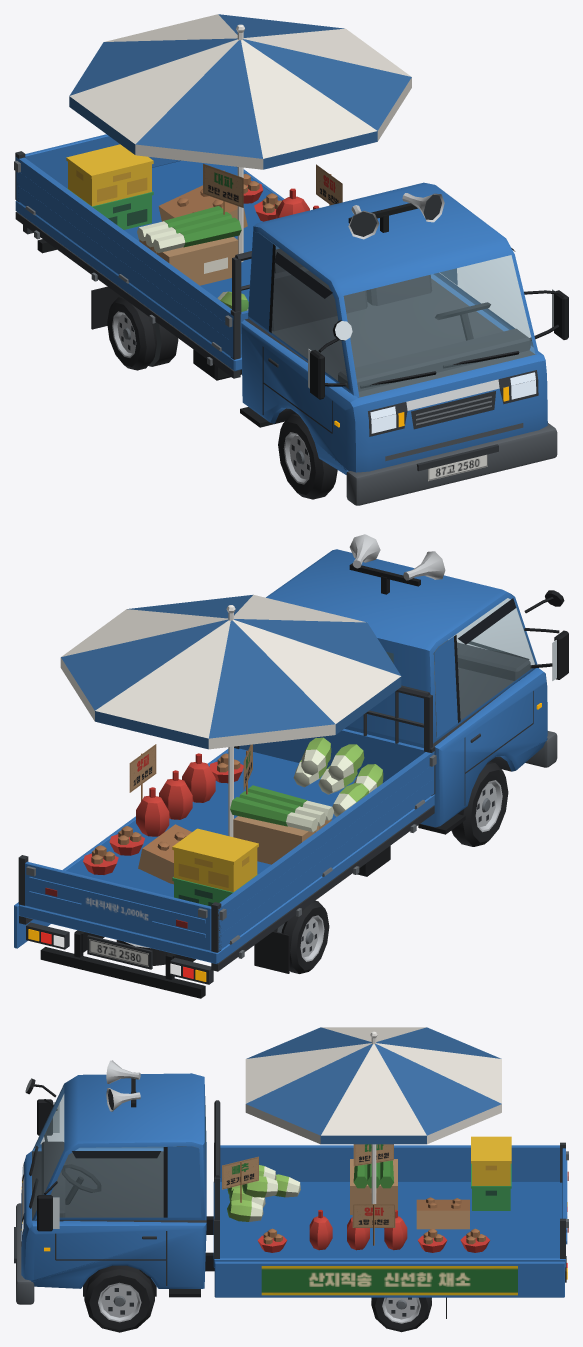
File: SC_Veh_Truck_1Ton_Vegetable.gltf
3 views of the same model, one above another, from view 1: azimuth 30°, elevation 25°; view 2: azimuth 150°, elevation 25°; view 3: azimuth 270°, elevation 25° (orthographic). The views are drawn at different scales.
Parts seen in each view (by area): view 1: SC_Veh_Truck_1Ton_Vegetable; view 2: SC_Veh_Truck_1Ton_Vegetable; view 3: SC_Veh_Truck_1Ton_Vegetable.
Boxes of the visible parts, <box> form: SC_Veh_Truck_1Ton_Vegetable: <box>14,14,568,505</box>; SC_Veh_Truck_1Ton_Vegetable: <box>14,534,568,998</box>; SC_Veh_Truck_1Ton_Vegetable: <box>14,1027,568,1332</box>.
Size of the model in its own units: 2.4 by 2.77 by 5.2.
Materials: 4 (4 with a texture image).
